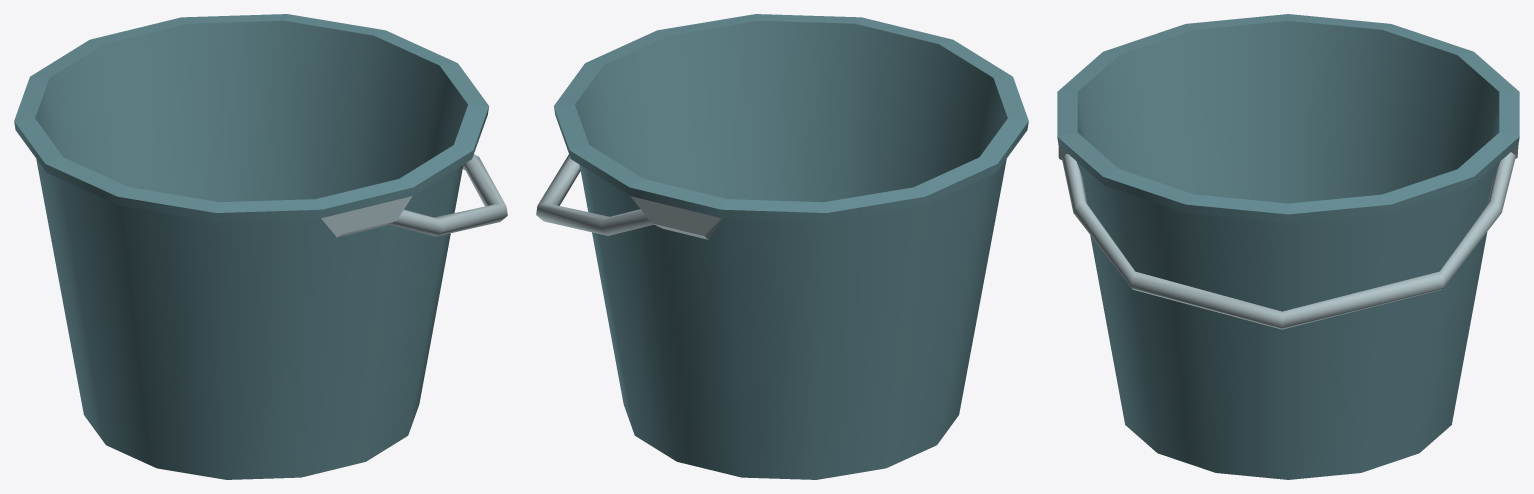
Rendered from SM_Bucket_01.fbx.
3 renders of one model, left to right at view 1: azimuth 30°, elevation 25°; view 2: azimuth 150°, elevation 25°; view 3: azimuth 270°, elevation 25°, orthographic.
Visible parts, largest first — view 1: SM_Bucket_01; view 2: SM_Bucket_01; view 3: SM_Bucket_01.
Boxes of the visible parts, x1,y1,x2,y2 form: SM_Bucket_01: (14,14,507,479); SM_Bucket_01: (536,14,1028,479); SM_Bucket_01: (1057,14,1519,479).
Bounding box in the file's own units: 57.27 × 37.84 × 53.41.
